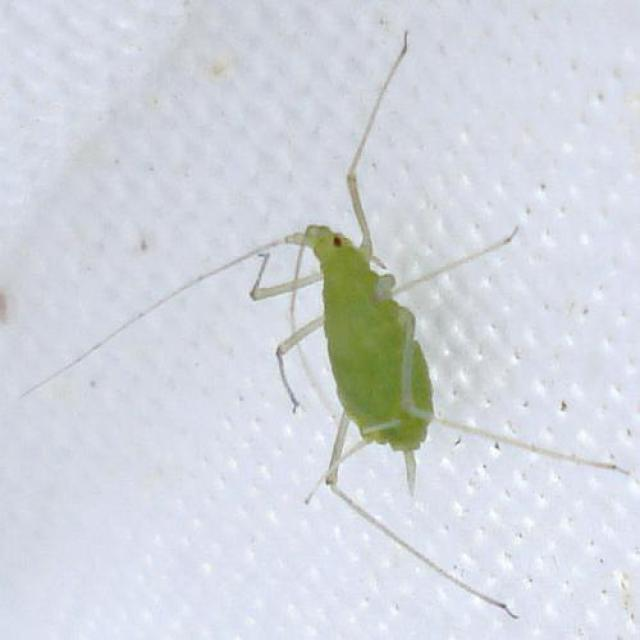aphid: (105, 85, 604, 610)
